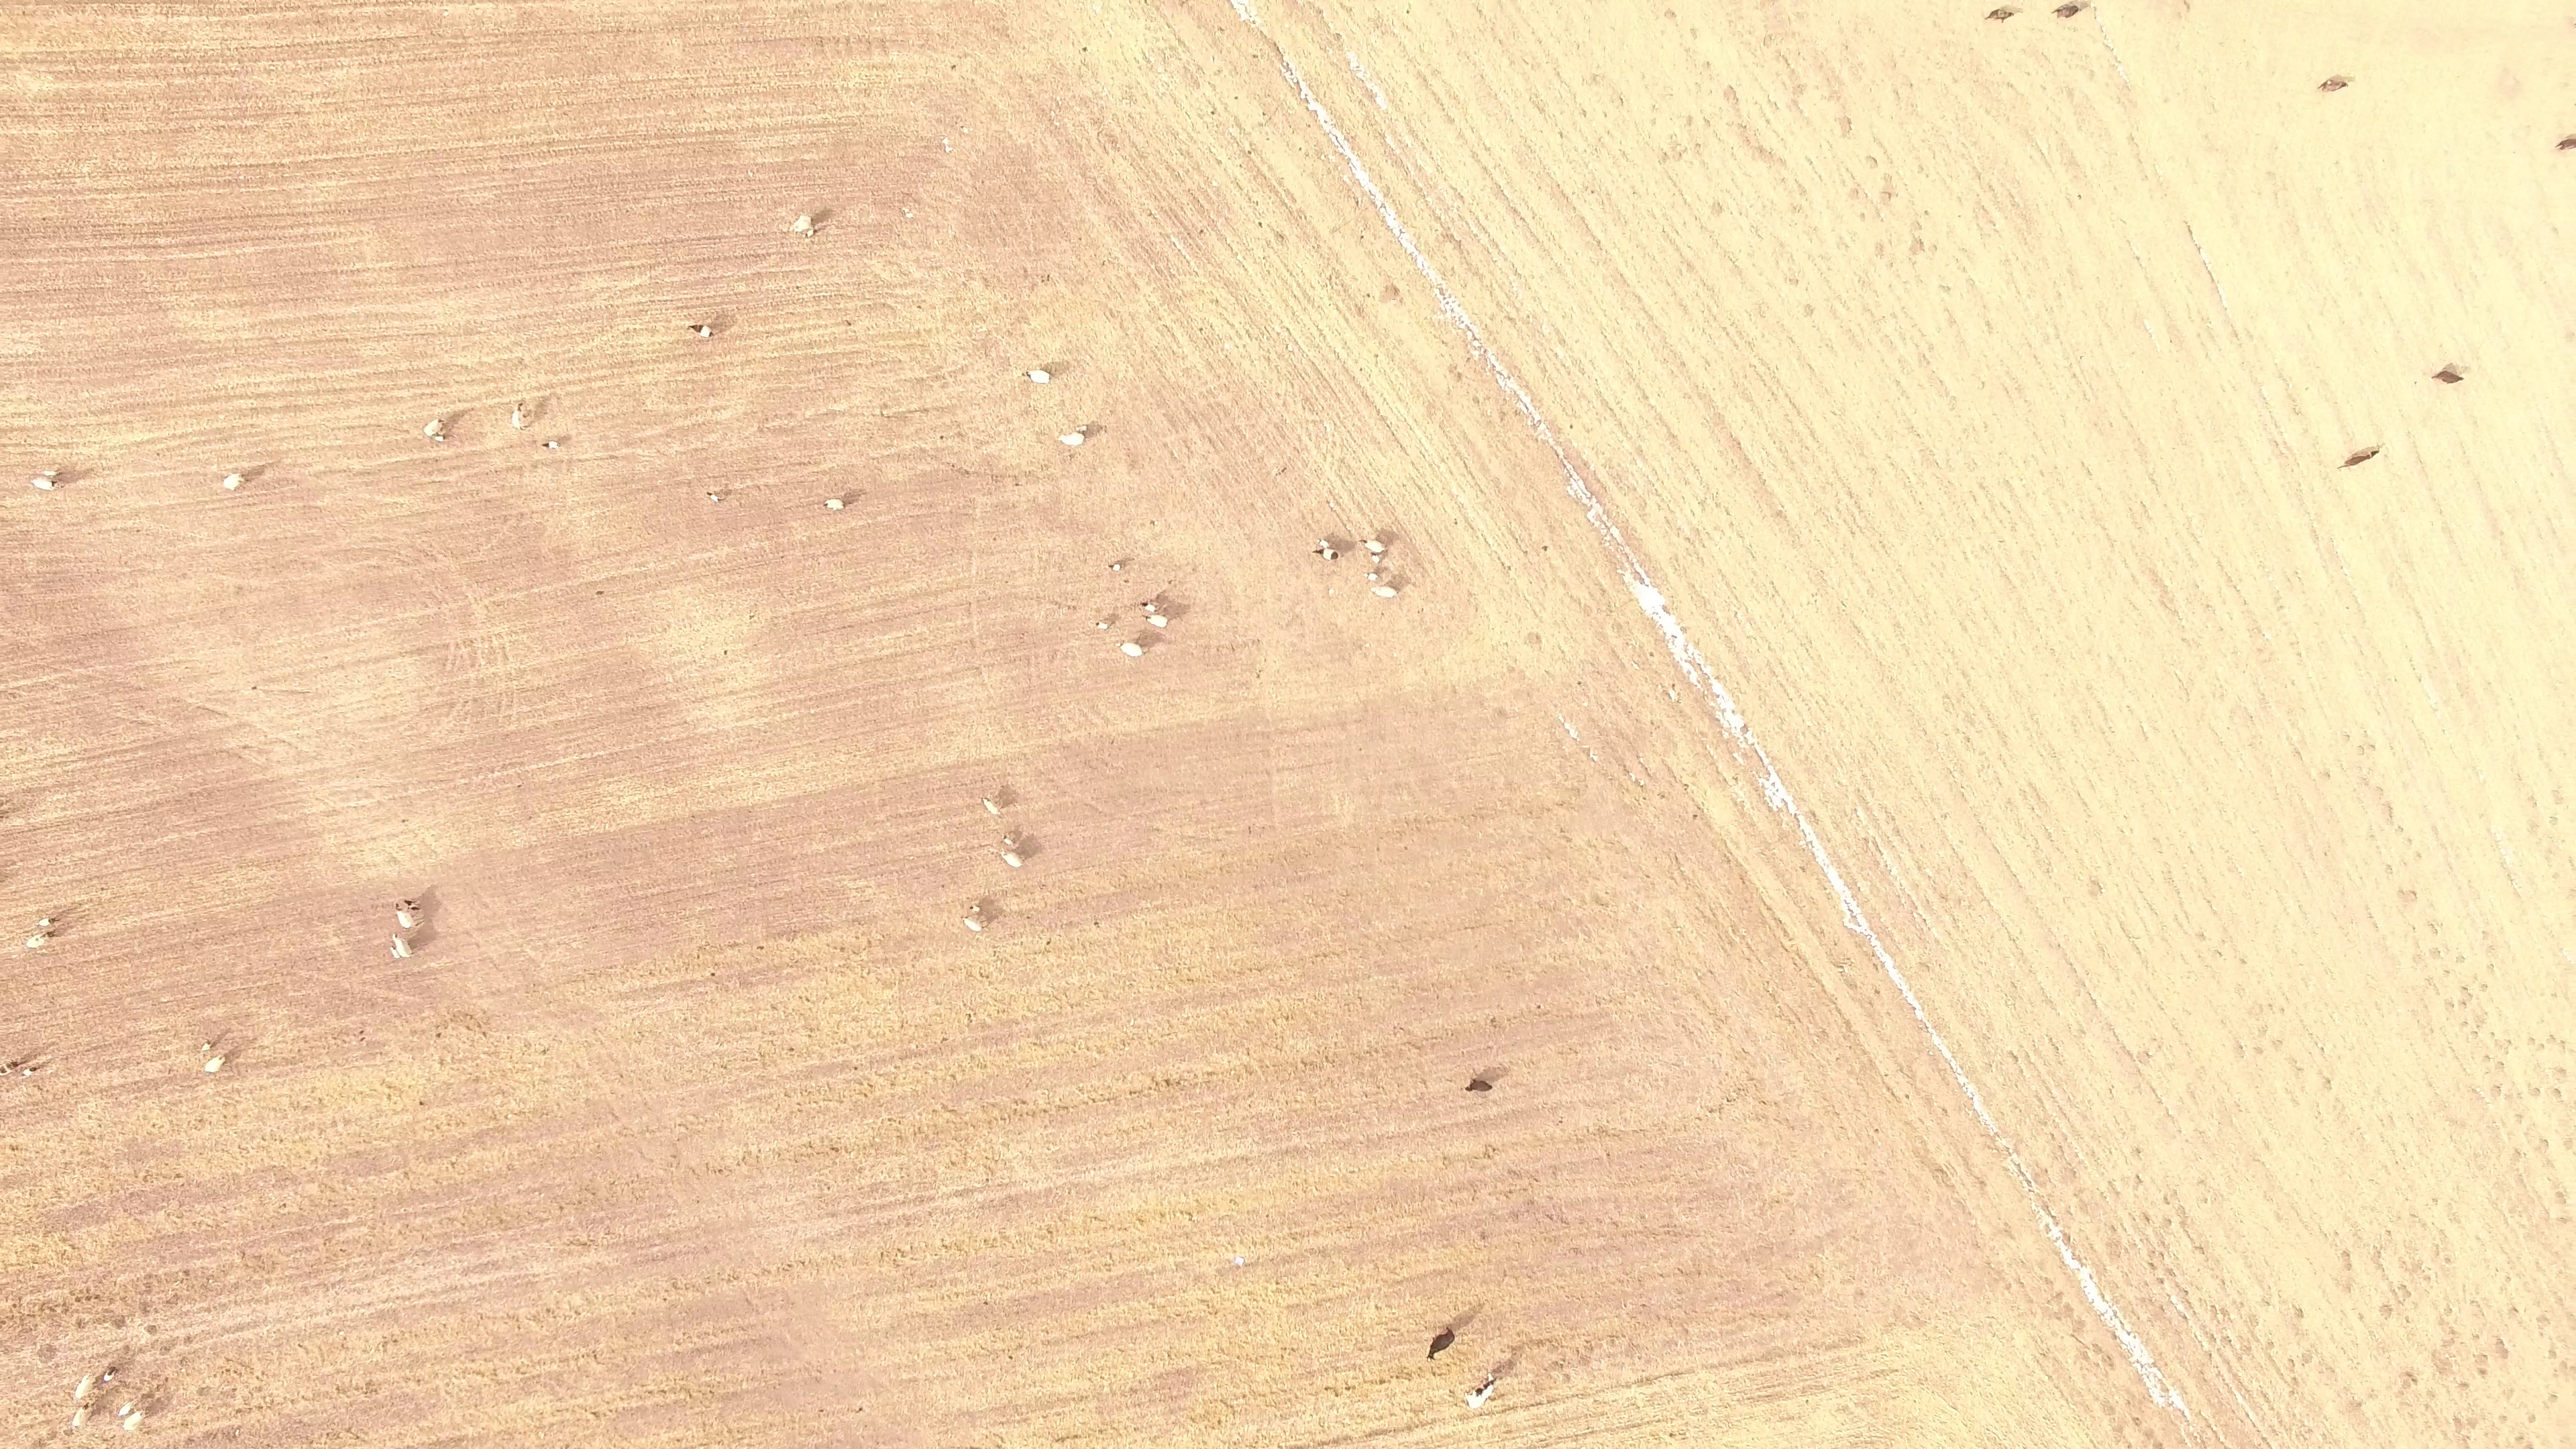sheep: (1464, 1377, 1497, 1411), (1426, 1325, 1456, 1361), (2342, 444, 2381, 470), (2051, 1, 2089, 25), (2430, 364, 2465, 390), (71, 1401, 95, 1429), (385, 932, 410, 960), (24, 928, 54, 952), (1020, 366, 1051, 388), (2318, 72, 2350, 95), (1358, 536, 1390, 555), (392, 902, 415, 930), (1463, 1076, 1495, 1095), (788, 213, 812, 237), (122, 1409, 149, 1432), (996, 847, 1023, 870), (687, 319, 713, 341), (1366, 582, 1400, 600), (1056, 429, 1087, 447), (421, 415, 443, 438), (1142, 610, 1171, 629), (509, 400, 527, 430), (1986, 5, 2017, 23), (1311, 546, 1342, 565), (1116, 641, 1146, 659), (221, 471, 246, 492), (32, 476, 64, 492), (204, 1053, 226, 1074), (74, 1375, 94, 1399), (822, 496, 849, 514), (979, 796, 1000, 817), (117, 1399, 137, 1418), (961, 916, 983, 934), (19, 1064, 40, 1081), (1106, 558, 1124, 575), (100, 1365, 119, 1382), (1138, 598, 1157, 614), (702, 490, 722, 506), (37, 915, 59, 929), (1361, 568, 1379, 584), (402, 897, 421, 912), (1092, 617, 1110, 632), (802, 226, 821, 240), (540, 439, 559, 451), (1316, 536, 1332, 549), (198, 1038, 212, 1053), (1000, 833, 1014, 847), (1367, 553, 1382, 566), (968, 902, 983, 916), (43, 468, 60, 480)
unknown: (433, 407, 469, 444), (1010, 827, 1042, 861), (417, 886, 445, 922), (405, 926, 436, 953), (241, 462, 269, 485), (88, 1391, 110, 1419), (808, 206, 834, 229), (142, 1395, 164, 1417), (997, 786, 1016, 809), (2557, 132, 2576, 153), (4, 1057, 28, 1071), (221, 1048, 238, 1066), (208, 1031, 224, 1051), (44, 925, 62, 941), (1460, 1313, 1476, 1328), (1882, 954, 1896, 971), (138, 1389, 158, 1402), (1505, 1356, 1517, 1373), (112, 1316, 128, 1330), (2086, 1289, 2100, 1302), (1489, 1364, 1505, 1377), (2169, 1393, 2182, 1406), (2476, 1366, 2489, 1378), (181, 1267, 193, 1279), (1566, 726, 1578, 738), (557, 433, 570, 446), (2121, 1332, 2135, 1344), (1318, 1438, 1330, 1448), (1403, 1423, 1415, 1434), (2451, 1415, 2462, 1426), (2353, 1399, 2365, 1410), (1376, 1376, 1389, 1387), (2402, 1368, 2415, 1380), (82, 1293, 94, 1304), (1233, 1254, 1246, 1266), (2063, 1233, 2074, 1245), (416, 1098, 427, 1109), (1162, 1076, 1173, 1089), (1108, 615, 1118, 627), (80, 466, 93, 478), (535, 399, 547, 411), (180, 13, 191, 25), (1, 1065, 9, 1079), (1330, 1437, 1342, 1447), (1058, 1434, 1068, 1444), (1070, 1432, 1081, 1442), (2182, 1407, 2192, 1417), (233, 1405, 245, 1416), (81, 1401, 91, 1412), (1544, 1397, 1554, 1407), (2459, 1380, 2470, 1390), (2410, 1375, 2420, 1385), (122, 1343, 132, 1353), (138, 1335, 148, 1346), (74, 1319, 85, 1329), (9, 1301, 19, 1311), (163, 1297, 174, 1307), (92, 1291, 103, 1303), (1976, 1177, 1986, 1187), (173, 1171, 183, 1181), (832, 1145, 842, 1155), (433, 1030, 443, 1040), (1690, 811, 1700, 821), (1562, 720, 1572, 731), (1646, 649, 1656, 659), (594, 588, 606, 598), (531, 408, 541, 419), (1454, 370, 1464, 381), (941, 136, 951, 147), (1080, 44, 1090, 54), (1272, 43, 1282, 54), (147, 15, 158, 25), (2155, 1440, 2165, 1449), (36, 1440, 46, 1449), (1365, 1430, 1375, 1440), (590, 1409, 600, 1419), (1332, 1389, 1342, 1400), (2324, 1077, 2334, 1087), (939, 1034, 949, 1044), (56, 909, 66, 919), (1831, 879, 1841, 889), (1540, 543, 1550, 553), (721, 488, 731, 498), (712, 313, 722, 323), (1844, 116, 1854, 126), (562, 1441, 572, 1449), (1, 1318, 9, 1328), (24, 1051, 34, 1061), (1, 808, 9, 818), (1293, 1444, 1306, 1449), (1286, 1444, 1296, 1449), (967, 1444, 977, 1449), (1, 799, 6, 810)
